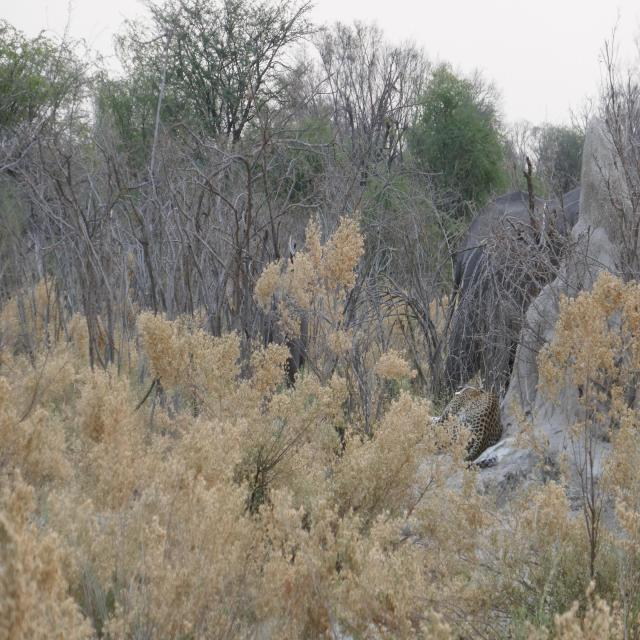Leopard: (428, 382, 506, 470)
